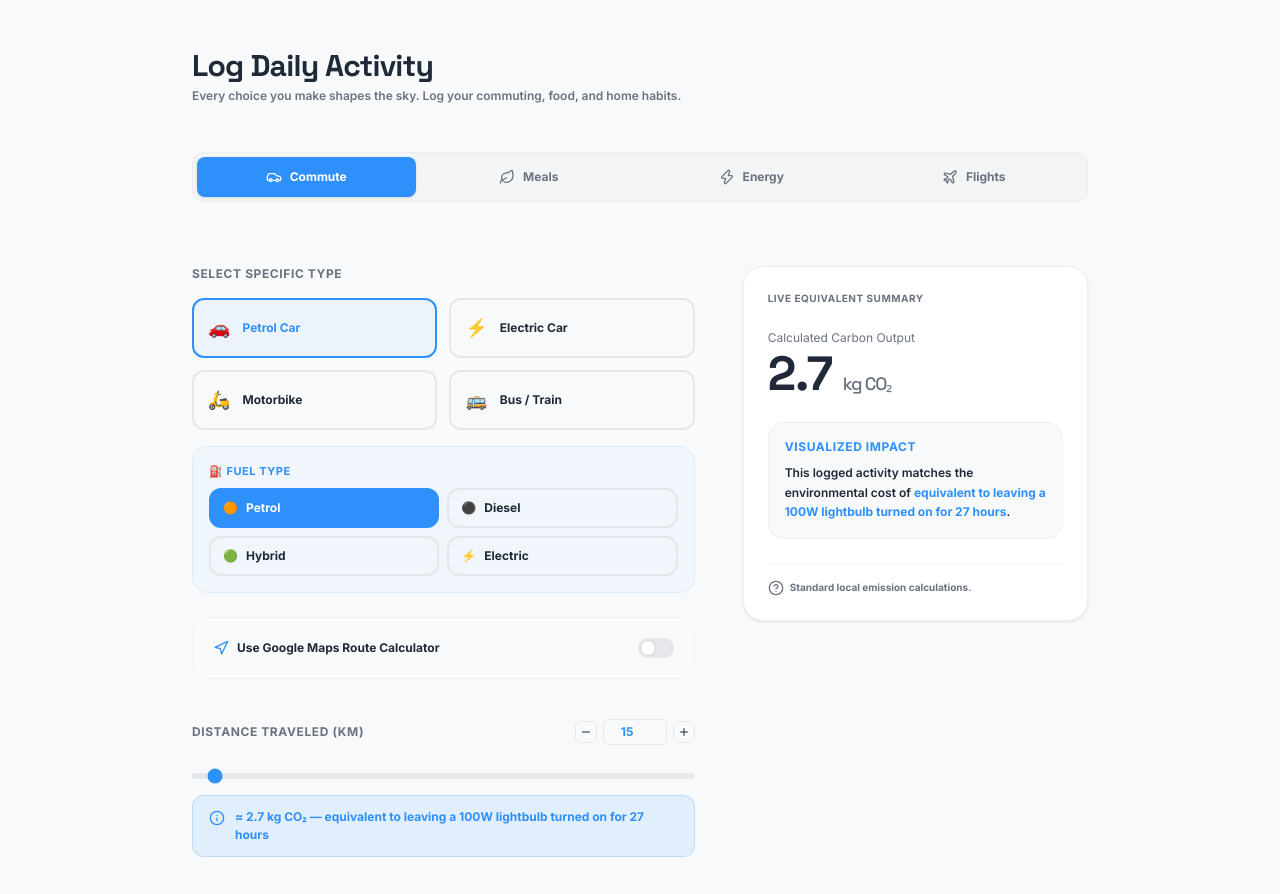
Test: Log Component › displays validation error if amount is less than or equal to 0
The width and height of the screenshot is (1280, 894).
Set the slider to "0" at (200, 776), box [192,772,695,778]
(page scrolled)
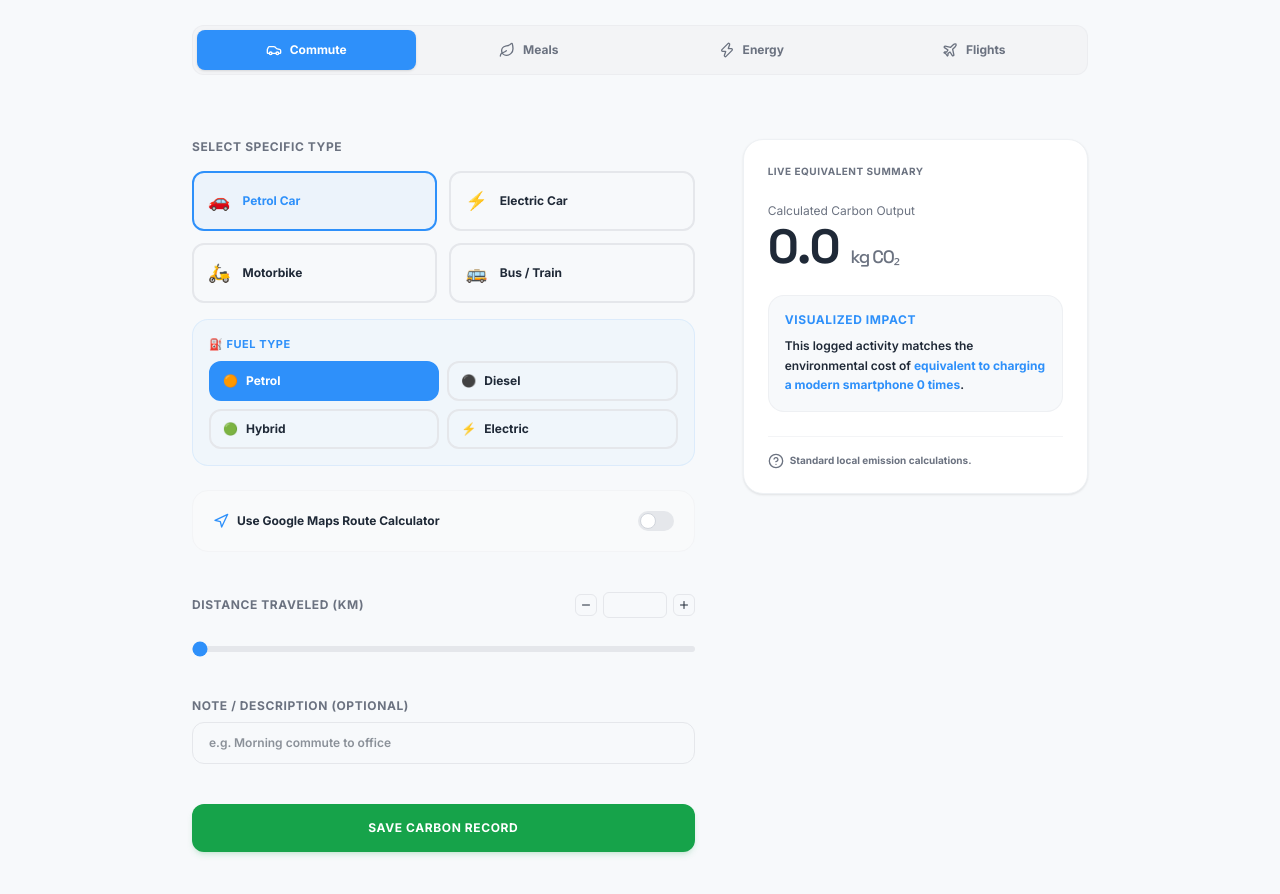
Click the button with aria-label "save carbon activity record".
click(443, 828)  # box [192,804,695,852]
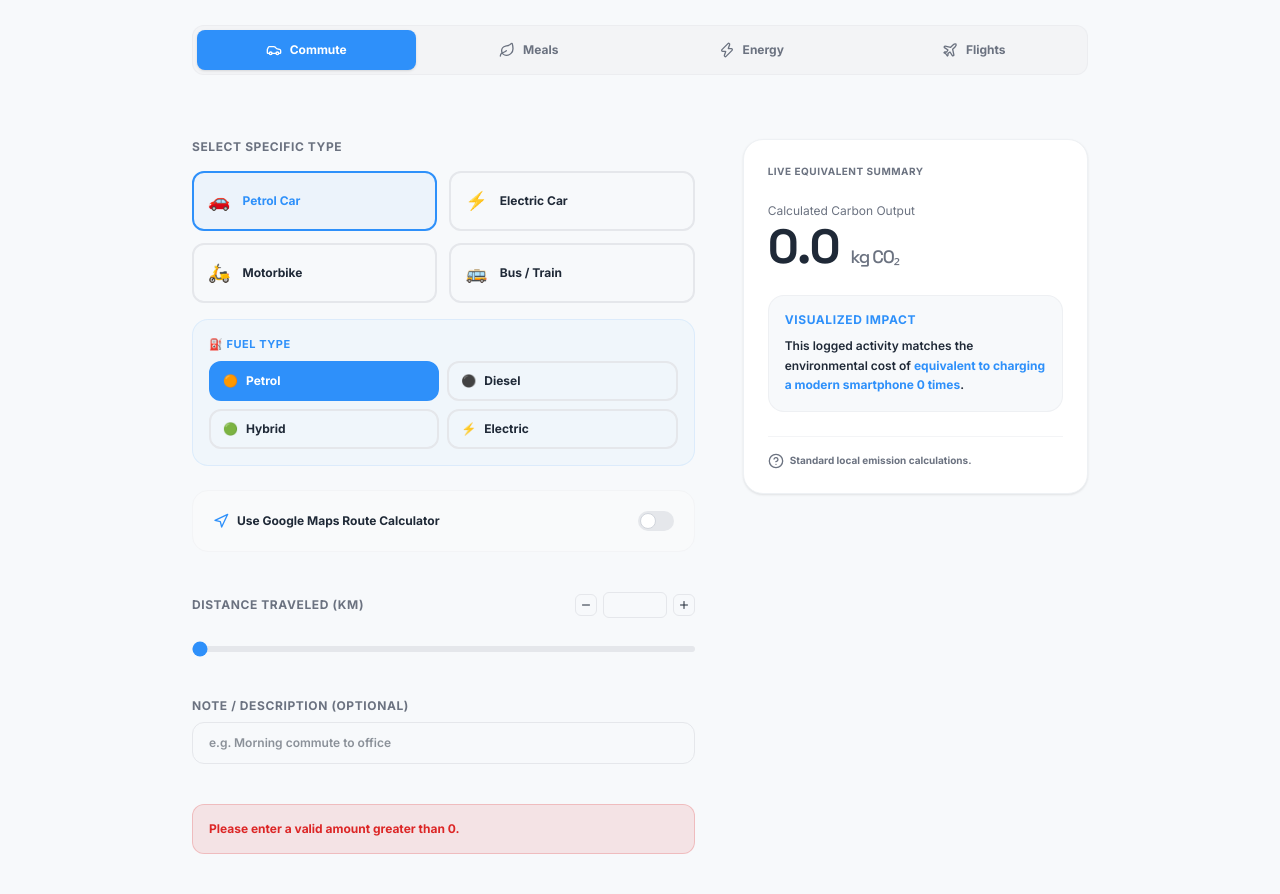
Now the message reads "Please enter a valid amount greater than 0.", box [209,820,460,836]
